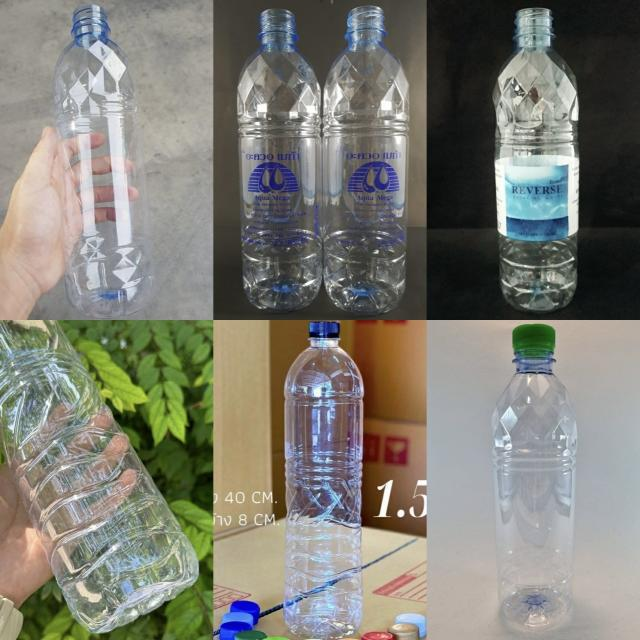plastik: (0, 322, 199, 633), (54, 5, 154, 318), (322, 6, 409, 315), (492, 324, 578, 632), (494, 8, 579, 313), (238, 9, 322, 313), (284, 322, 364, 638)
